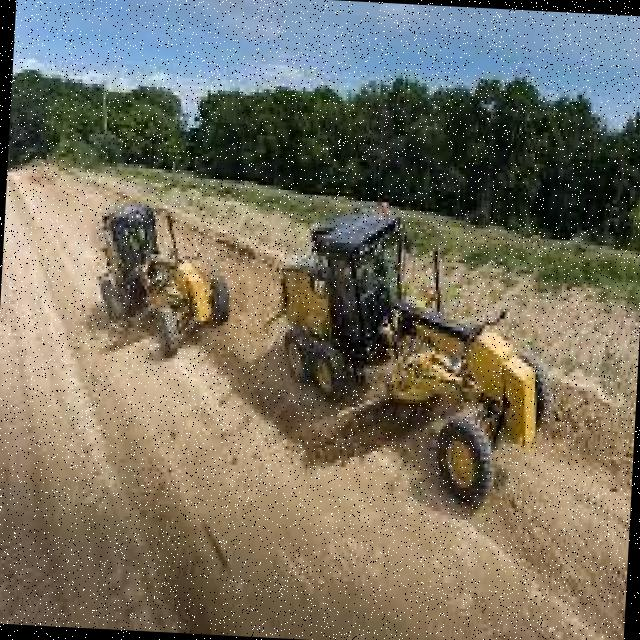Grader: (263, 175, 565, 552), (59, 154, 260, 356)
